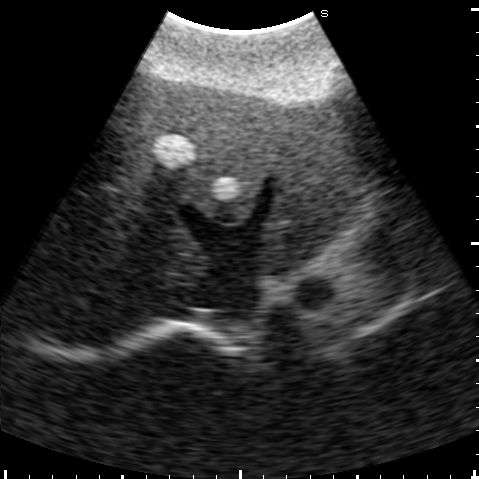S2: (261, 103, 360, 274)
S4: (110, 75, 286, 224)
S7: (32, 247, 149, 348)
S8: (68, 161, 208, 290)
Tumor: (152, 135, 197, 168), (209, 175, 237, 197)
